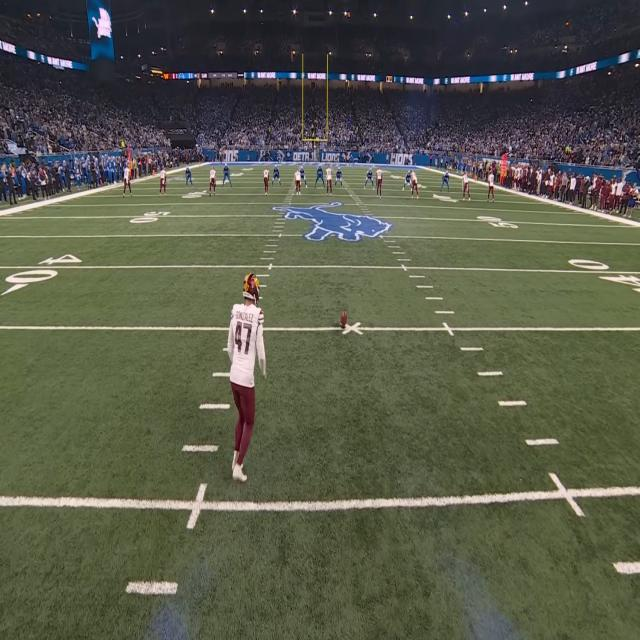Ball: (341, 309, 347, 329)
